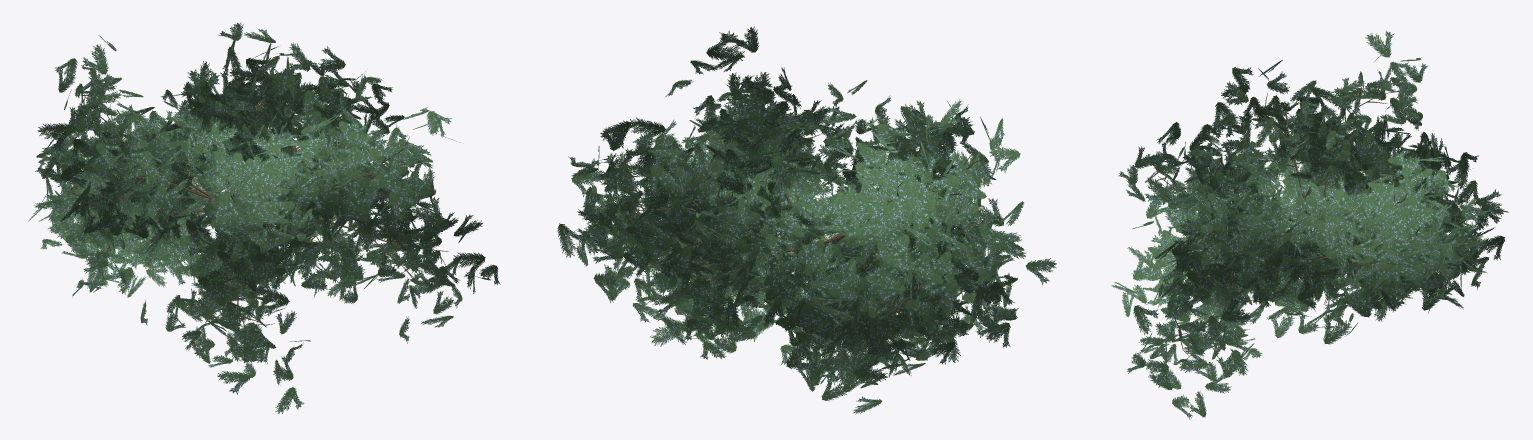
The model's file is RM3_Rosemary_Cascading_0.45m.glb.
3 renders of one model, left to right at view 1: azimuth 30°, elevation 25°; view 2: azimuth 150°, elevation 25°; view 3: azimuth 270°, elevation 25°, orthographic. The views are drawn at different scales.
Visible parts, largest first — view 1: RM3_leaves, RM3_wood; view 2: RM3_leaves, RM3_wood; view 3: RM3_leaves, RM3_wood.
Boxes of the visible parts, left/top/right/bottom form: RM3_leaves: left=28, top=22, right=500, bottom=413; RM3_wood: left=65, top=68, right=448, bottom=331; RM3_leaves: left=557, top=26, right=1056, bottom=414; RM3_wood: left=611, top=80, right=983, bottom=356; RM3_leaves: left=1111, top=30, right=1508, bottom=419; RM3_wood: left=1158, top=78, right=1456, bottom=359.
Bounding box in the file's own units: 0.9626 × 0.7668 × 0.9381.
2 materials, 2 textured.
